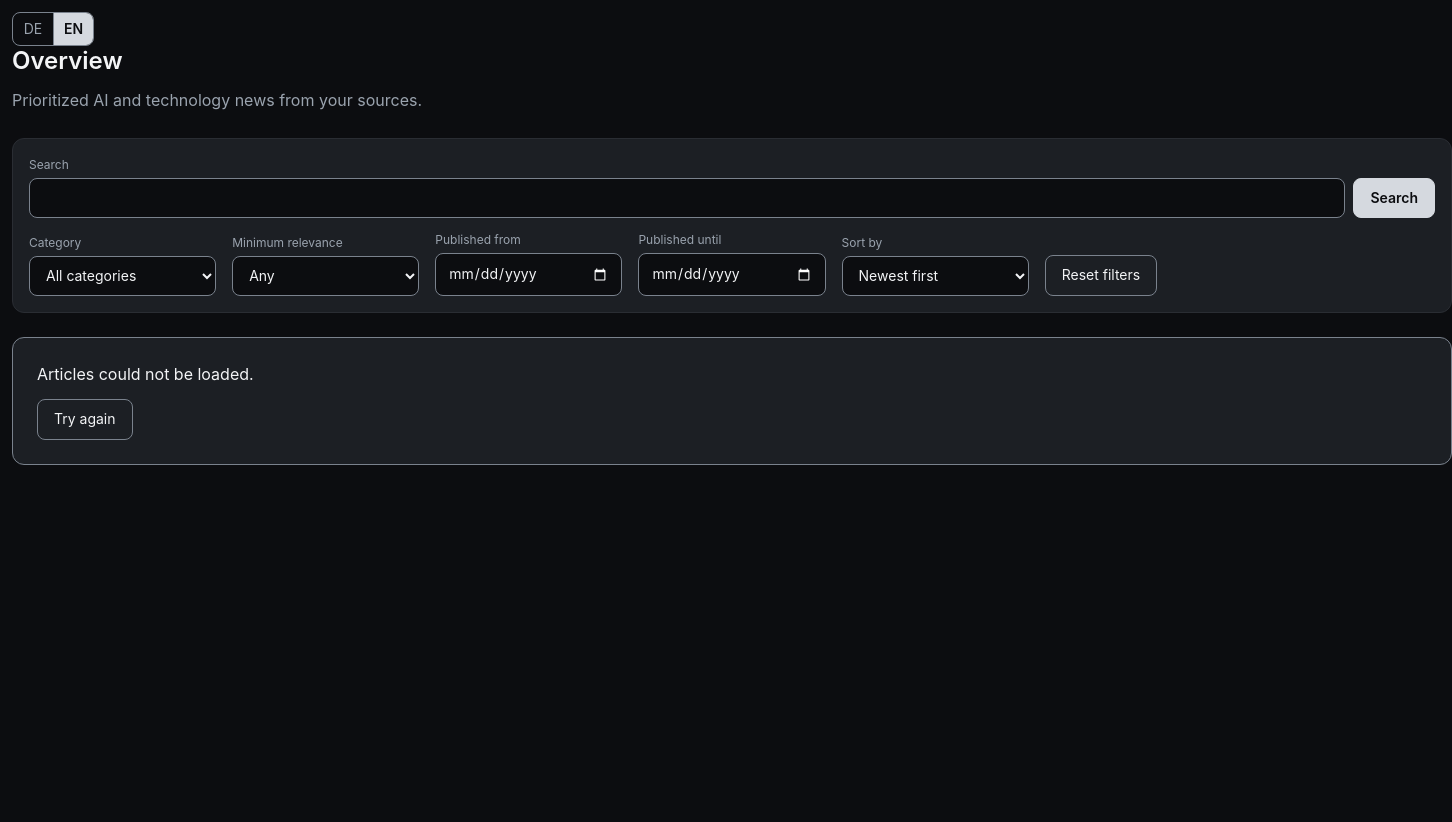
Test: states › shows an error with retry
This screenshot has width=1452, height=822.
Expected: the message shows "Articles could not be loaded.", x1=37 y1=364 x2=254 y2=384
Step 1. Click the button "Try again" → click(85, 420), box x1=37 y1=399 x2=132 y2=440
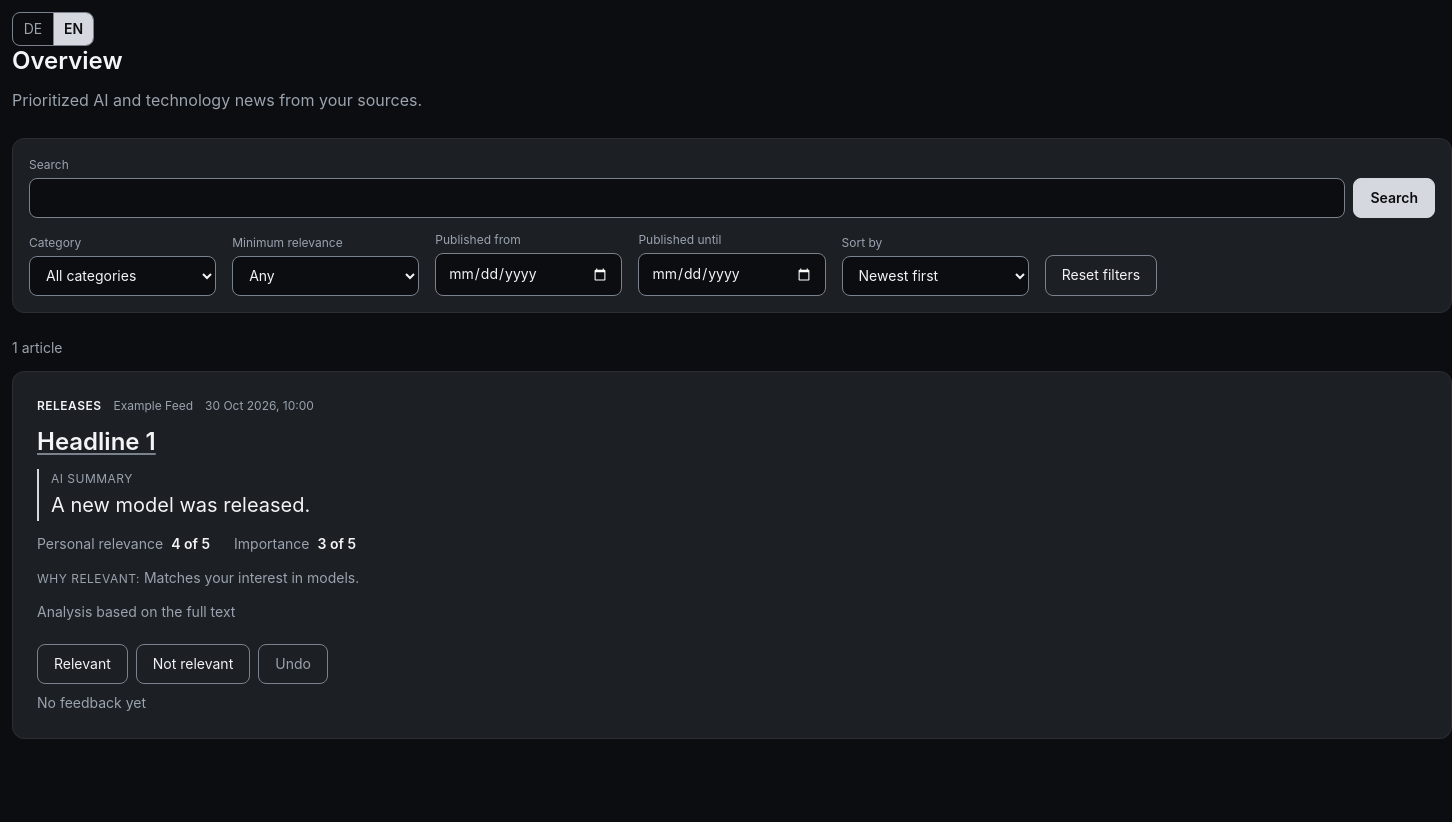
Expected: the element "Headline 1" is shown, x1=12 y1=371 x2=1451 y2=739
